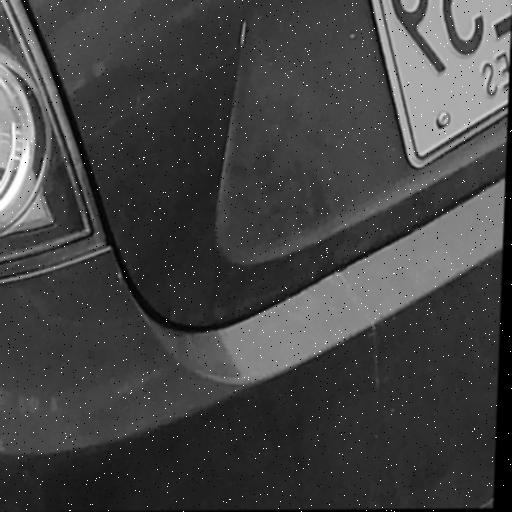placa: (372, 0, 512, 178)
